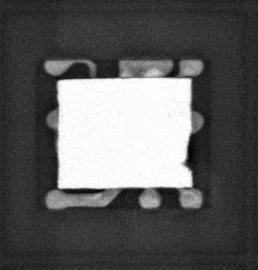DIE_BROKEN: (183, 134, 195, 171)
